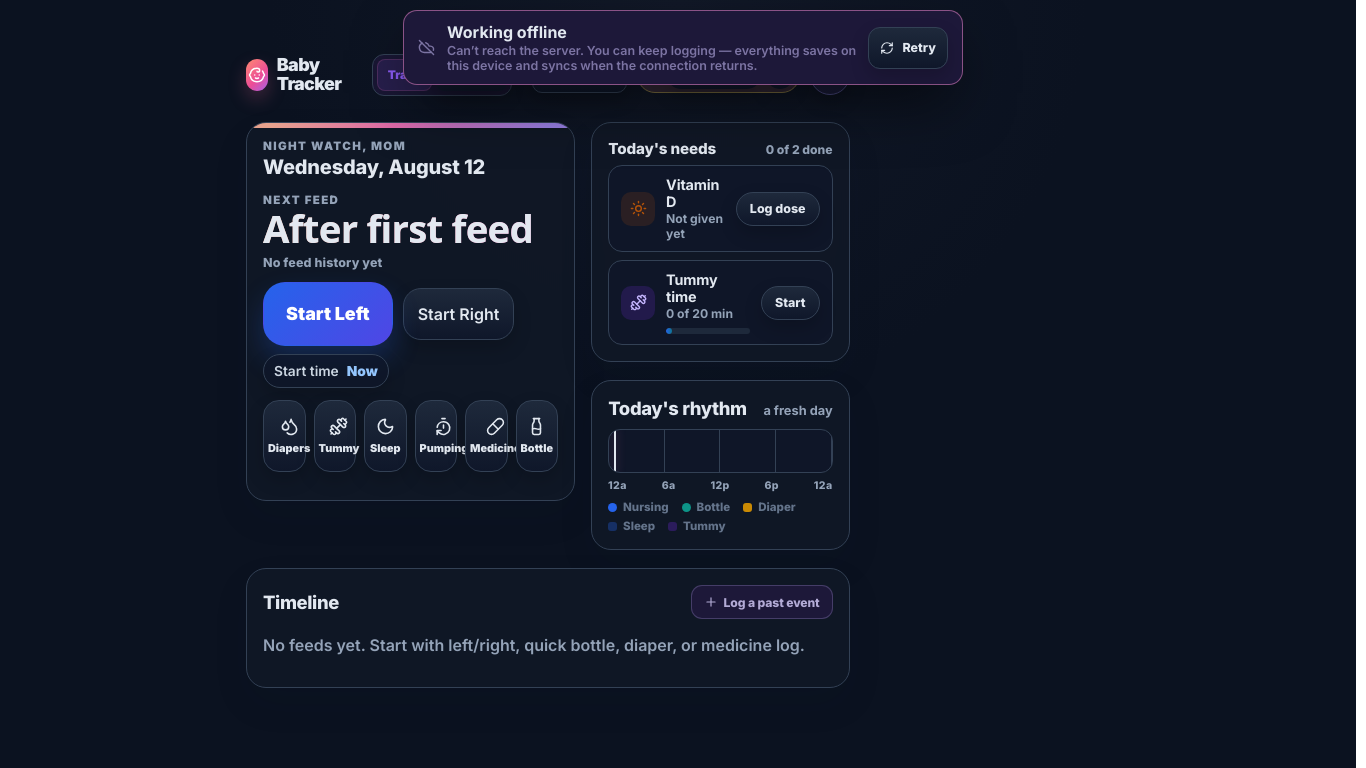
Test: custom medicines › logs a medicine outside the three built-ins under its own name
This screenshot has width=1366, height=768.
Click the button "Medicine": (486, 436) [465,400,508,472]
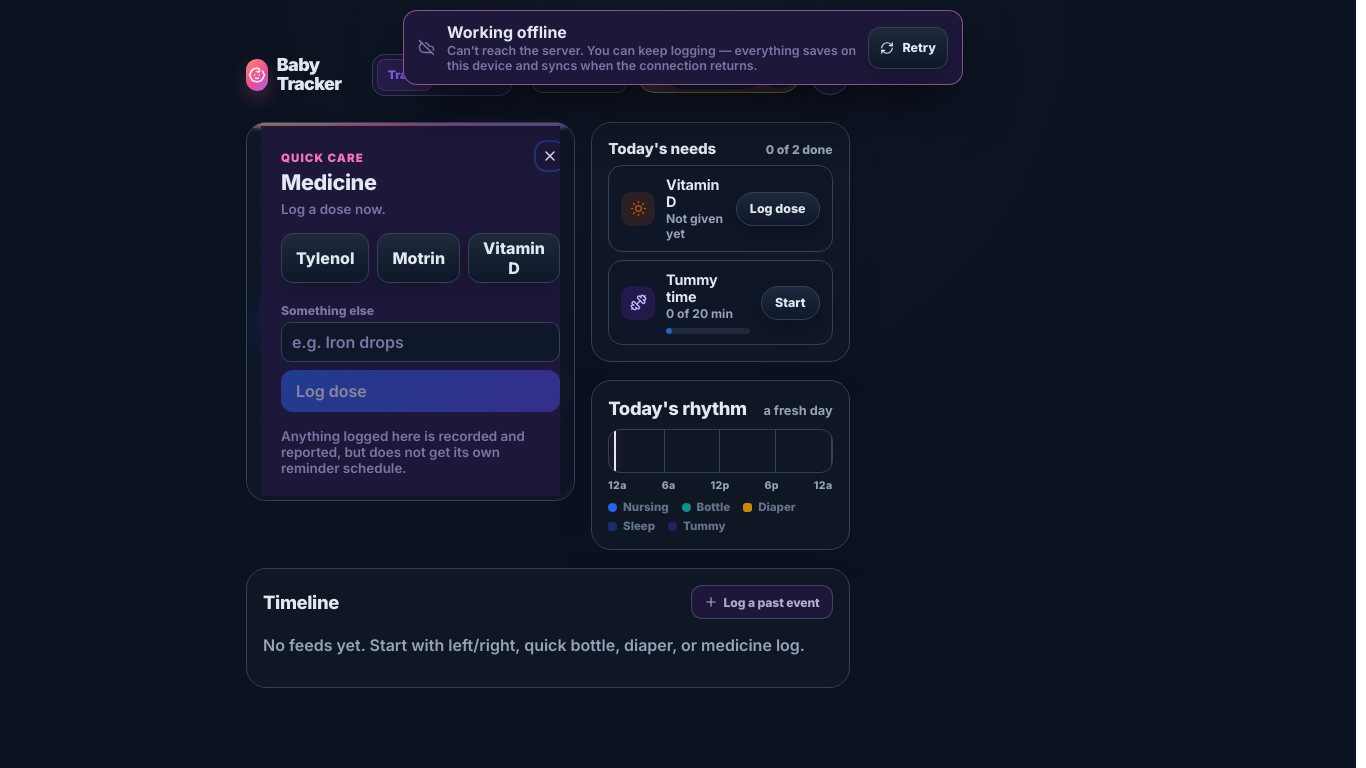
In the field named "Other medicine name": (420, 342) [281,322,560,362], type "Iron drops"
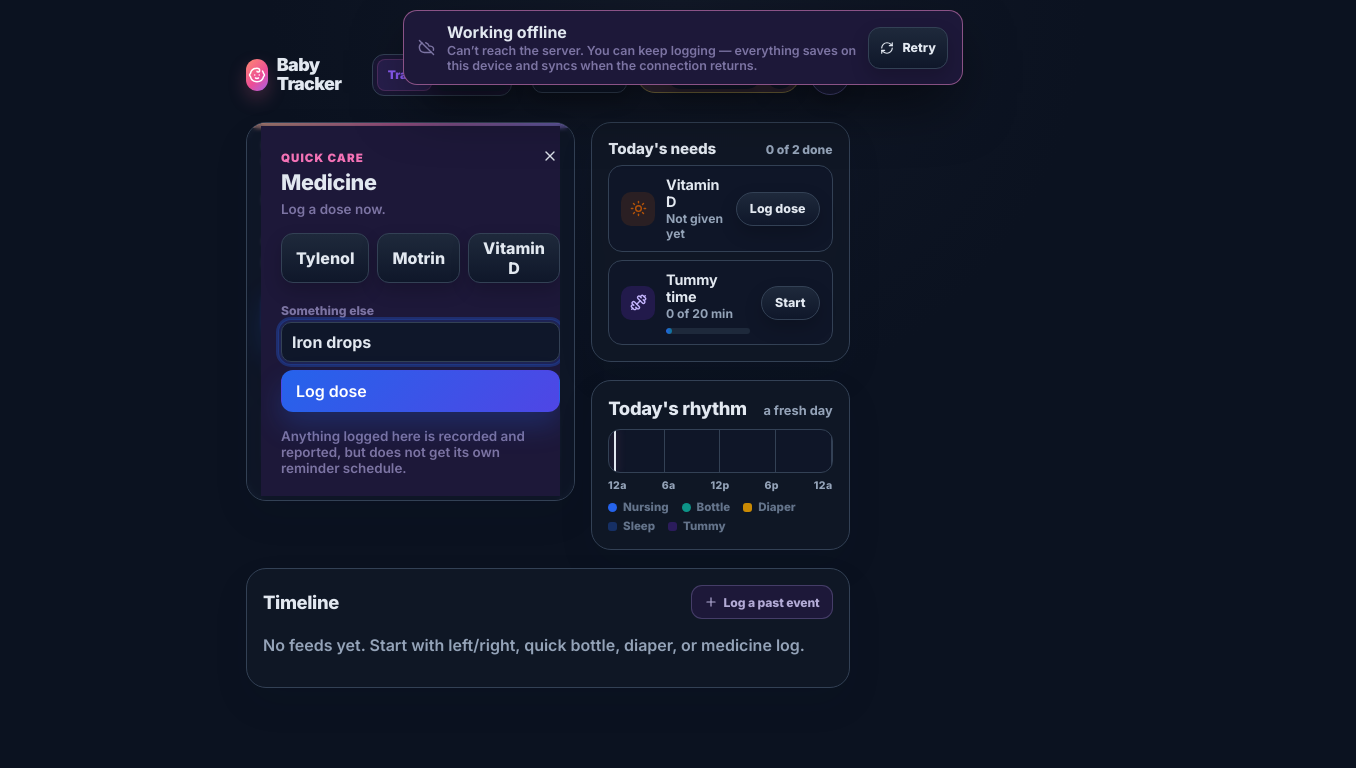
Click the button with aria-label "Log other medicine": (331, 391) [281,370,560,412]
(page scrolled)
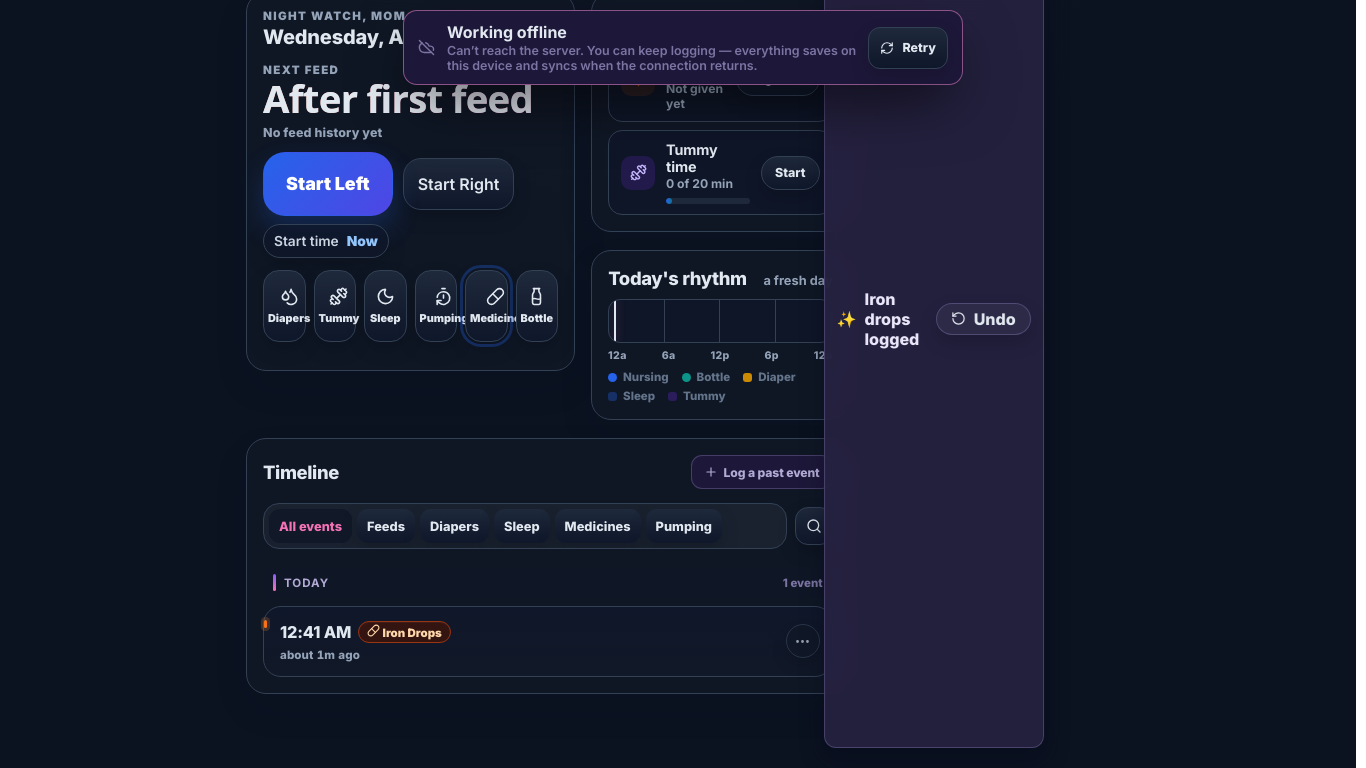
Now the text "Iron drops" is shown, box [358,621,451,643]
